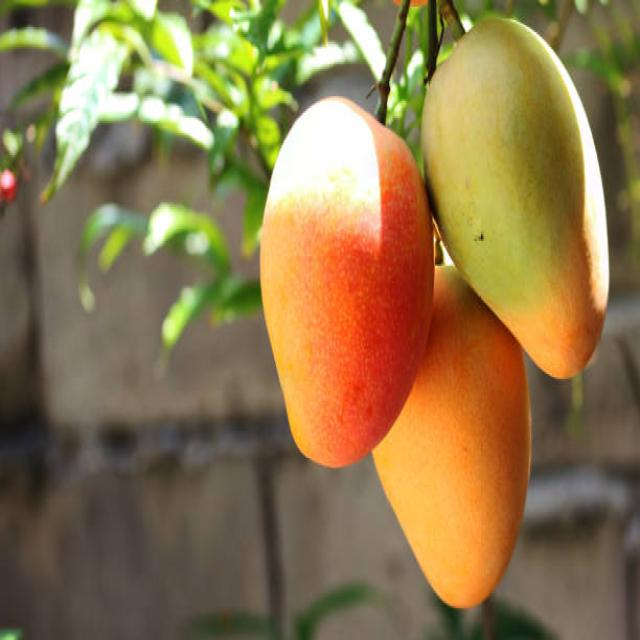mango: (422, 18, 609, 378), (260, 97, 434, 466), (372, 268, 530, 608), (438, 600, 552, 639)
